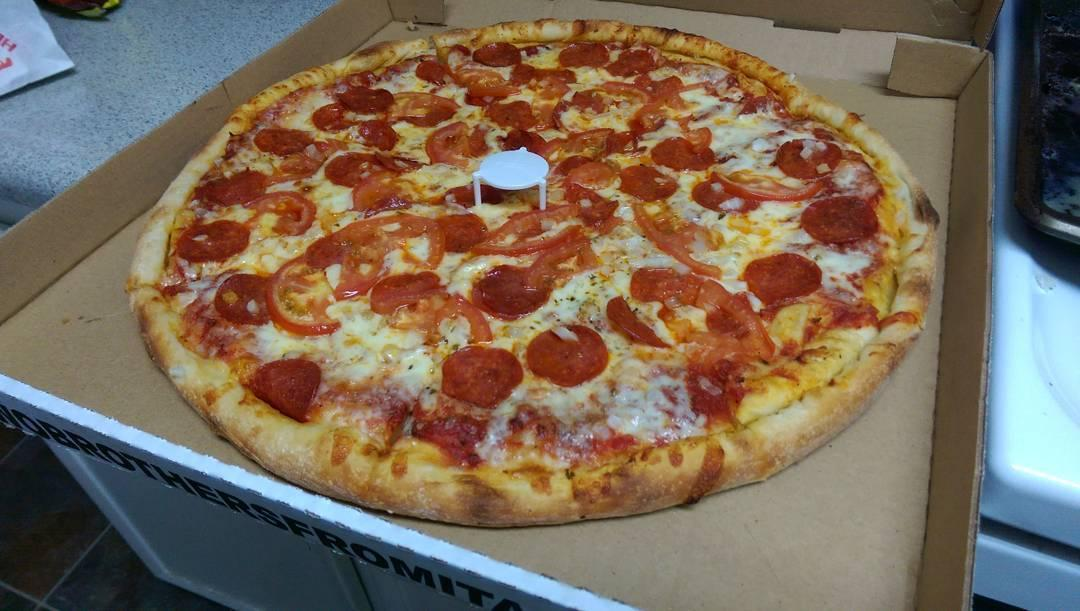Pepperoni: (439, 338, 525, 407), (524, 322, 612, 388), (252, 357, 324, 424), (798, 193, 883, 249), (472, 261, 555, 317), (740, 250, 824, 305), (602, 292, 674, 355), (172, 216, 252, 264), (214, 271, 278, 329), (369, 270, 449, 315), (774, 135, 849, 181), (199, 166, 271, 207), (683, 180, 765, 215), (433, 211, 491, 256), (612, 161, 678, 200), (653, 134, 716, 174), (326, 150, 390, 189), (251, 120, 314, 155), (437, 178, 506, 209), (571, 186, 617, 229), (509, 62, 579, 90), (608, 45, 658, 79), (555, 41, 616, 68), (340, 82, 393, 112), (484, 99, 539, 127), (309, 98, 351, 134), (469, 41, 524, 68), (359, 119, 401, 153), (502, 128, 548, 156), (381, 150, 431, 175), (605, 128, 645, 158), (418, 57, 454, 86), (557, 152, 592, 169)
Pizza: (126, 11, 942, 527)
Tomatoes: (675, 274, 775, 379), (629, 192, 732, 281), (262, 247, 348, 341), (470, 195, 582, 261), (328, 211, 444, 274), (388, 287, 498, 353), (712, 166, 833, 207), (257, 187, 321, 235), (656, 102, 714, 148), (422, 116, 470, 171), (599, 77, 664, 117), (354, 169, 410, 213), (389, 90, 459, 124), (457, 58, 514, 97), (281, 138, 332, 175)
